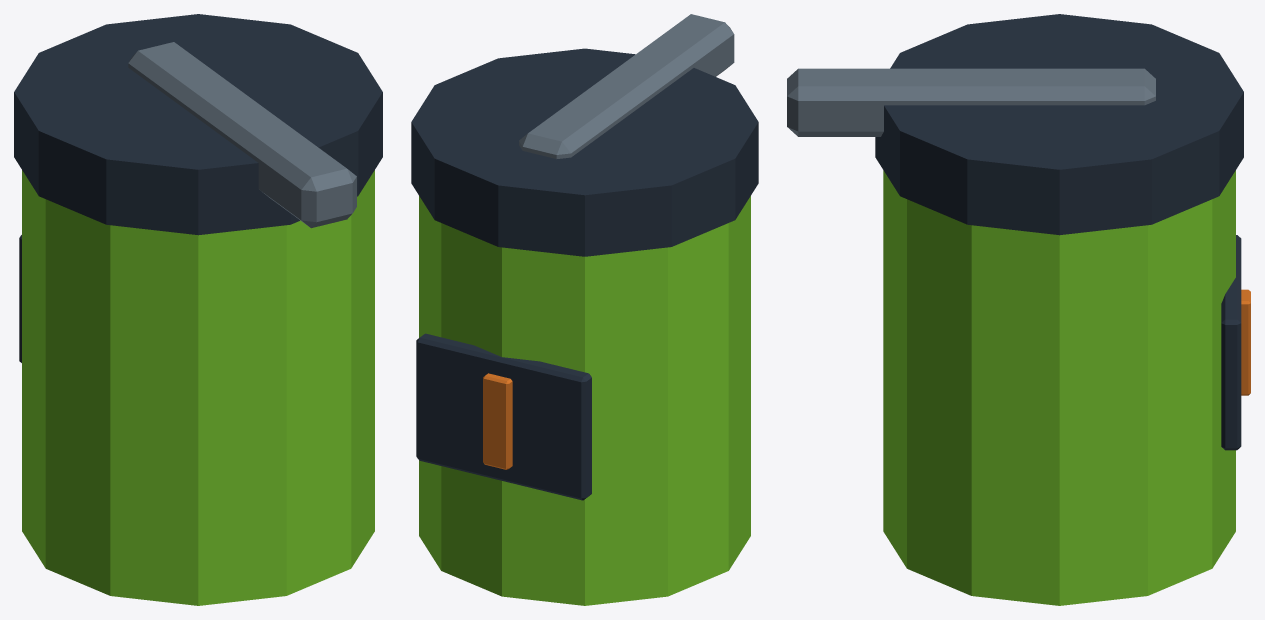
File: slop-grenade.glb
3 renders of one model, left to right at view 1: azimuth 30°, elevation 25°; view 2: azimuth 150°, elevation 25°; view 3: azimuth 270°, elevation 25°, orthographic. The views are drawn at different scales.
Parts seen in each view (by area): view 1: slop-grenade_Body; view 2: slop-grenade_Body; view 3: slop-grenade_Body.
Part boxes in pixels (<box>): slop-grenade_Body: <box>14,14,382,605</box>; slop-grenade_Body: <box>411,14,758,605</box>; slop-grenade_Body: <box>787,14,1250,605</box>.
Bounding box in the file's own units: 0.46 × 0.625 × 0.5785.
